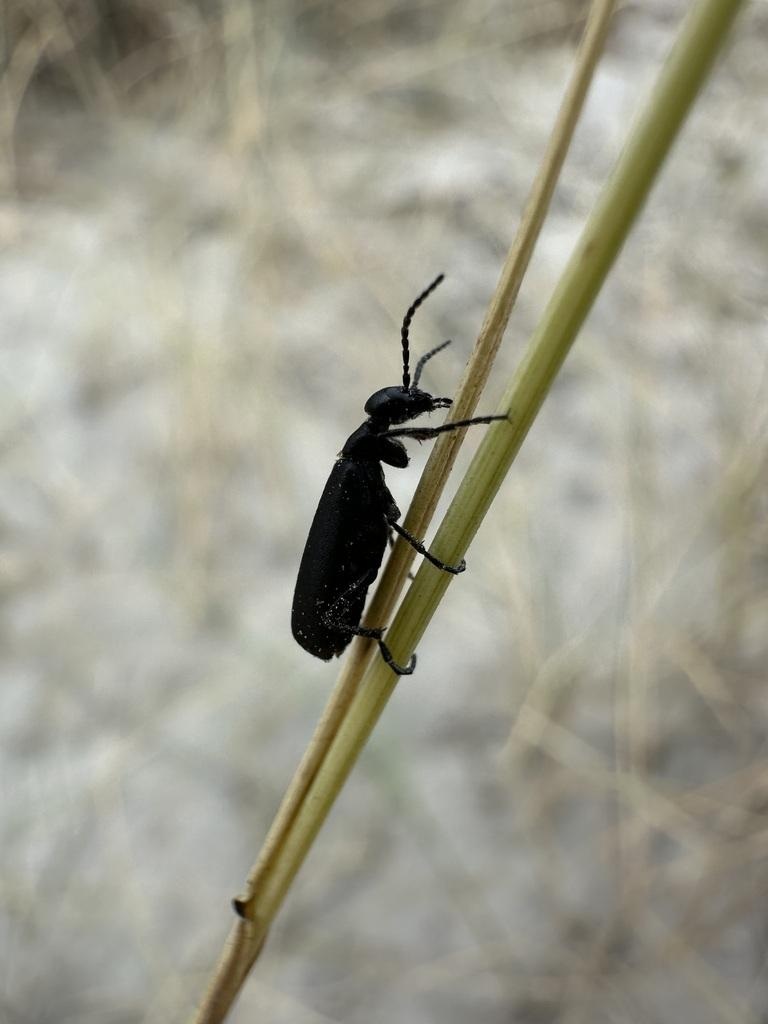blister_beetle: (209, 221, 609, 756)
